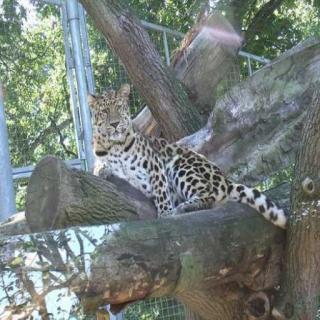Leopard: (74, 60, 258, 211)
